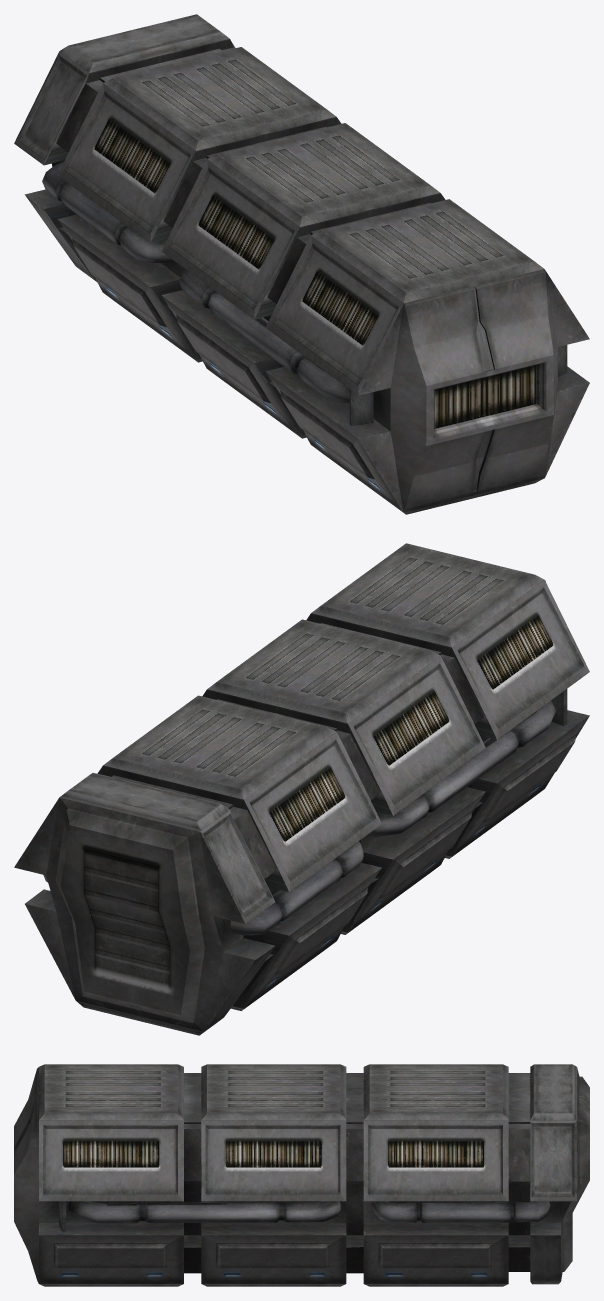
Rendered from cargo_debris_crate_s01_l0.fbx.
3 renders of one model, top to bottom at view 1: azimuth 30°, elevation 25°; view 2: azimuth 150°, elevation 25°; view 3: azimuth 270°, elevation 25°, orthographic. The views are drawn at different scales.
Parts seen in each view (by area): view 1: mesh_node; view 2: mesh_node; view 3: mesh_node.
Part boxes in pixels (<box>): mesh_node: <box>14,14,589,514</box>; mesh_node: <box>14,543,589,1035</box>; mesh_node: <box>14,1064,589,1286</box>.
Size of the model in its own units: 7.2 by 6.59 by 19.86.
Materials: 1 (1 with a texture image).
